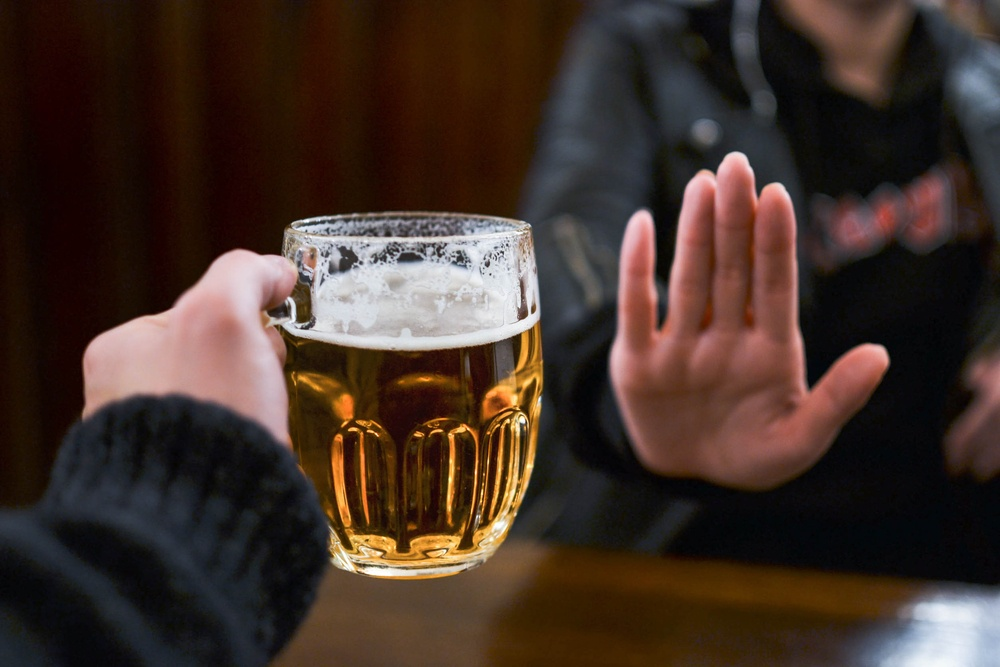glassBeer: (276, 214, 542, 582)
